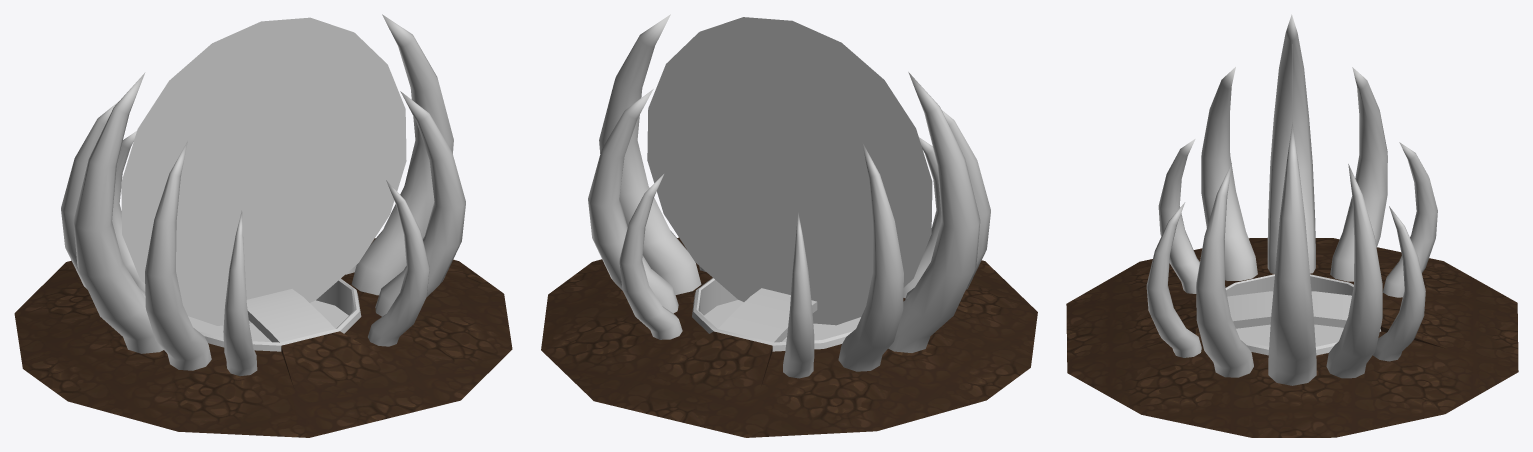
Rendered from converter.FBX.
3 renders of one model, left to right at view 1: azimuth 30°, elevation 25°; view 2: azimuth 150°, elevation 25°; view 3: azimuth 270°, elevation 25°, orthographic. The views are drawn at different scales.
Visible parts, largest first — view 1: converter, portal; view 2: converter, portal; view 3: converter.
Boxes of the visible parts, box(x1,y1,x2,y2) form: converter: box(14, 14, 512, 437); portal: box(121, 17, 406, 325); converter: box(541, 14, 1037, 437); portal: box(647, 17, 932, 325); converter: box(1066, 14, 1518, 437).
Size of the model in its own units: 29.86 by 20.22 by 28.52.
